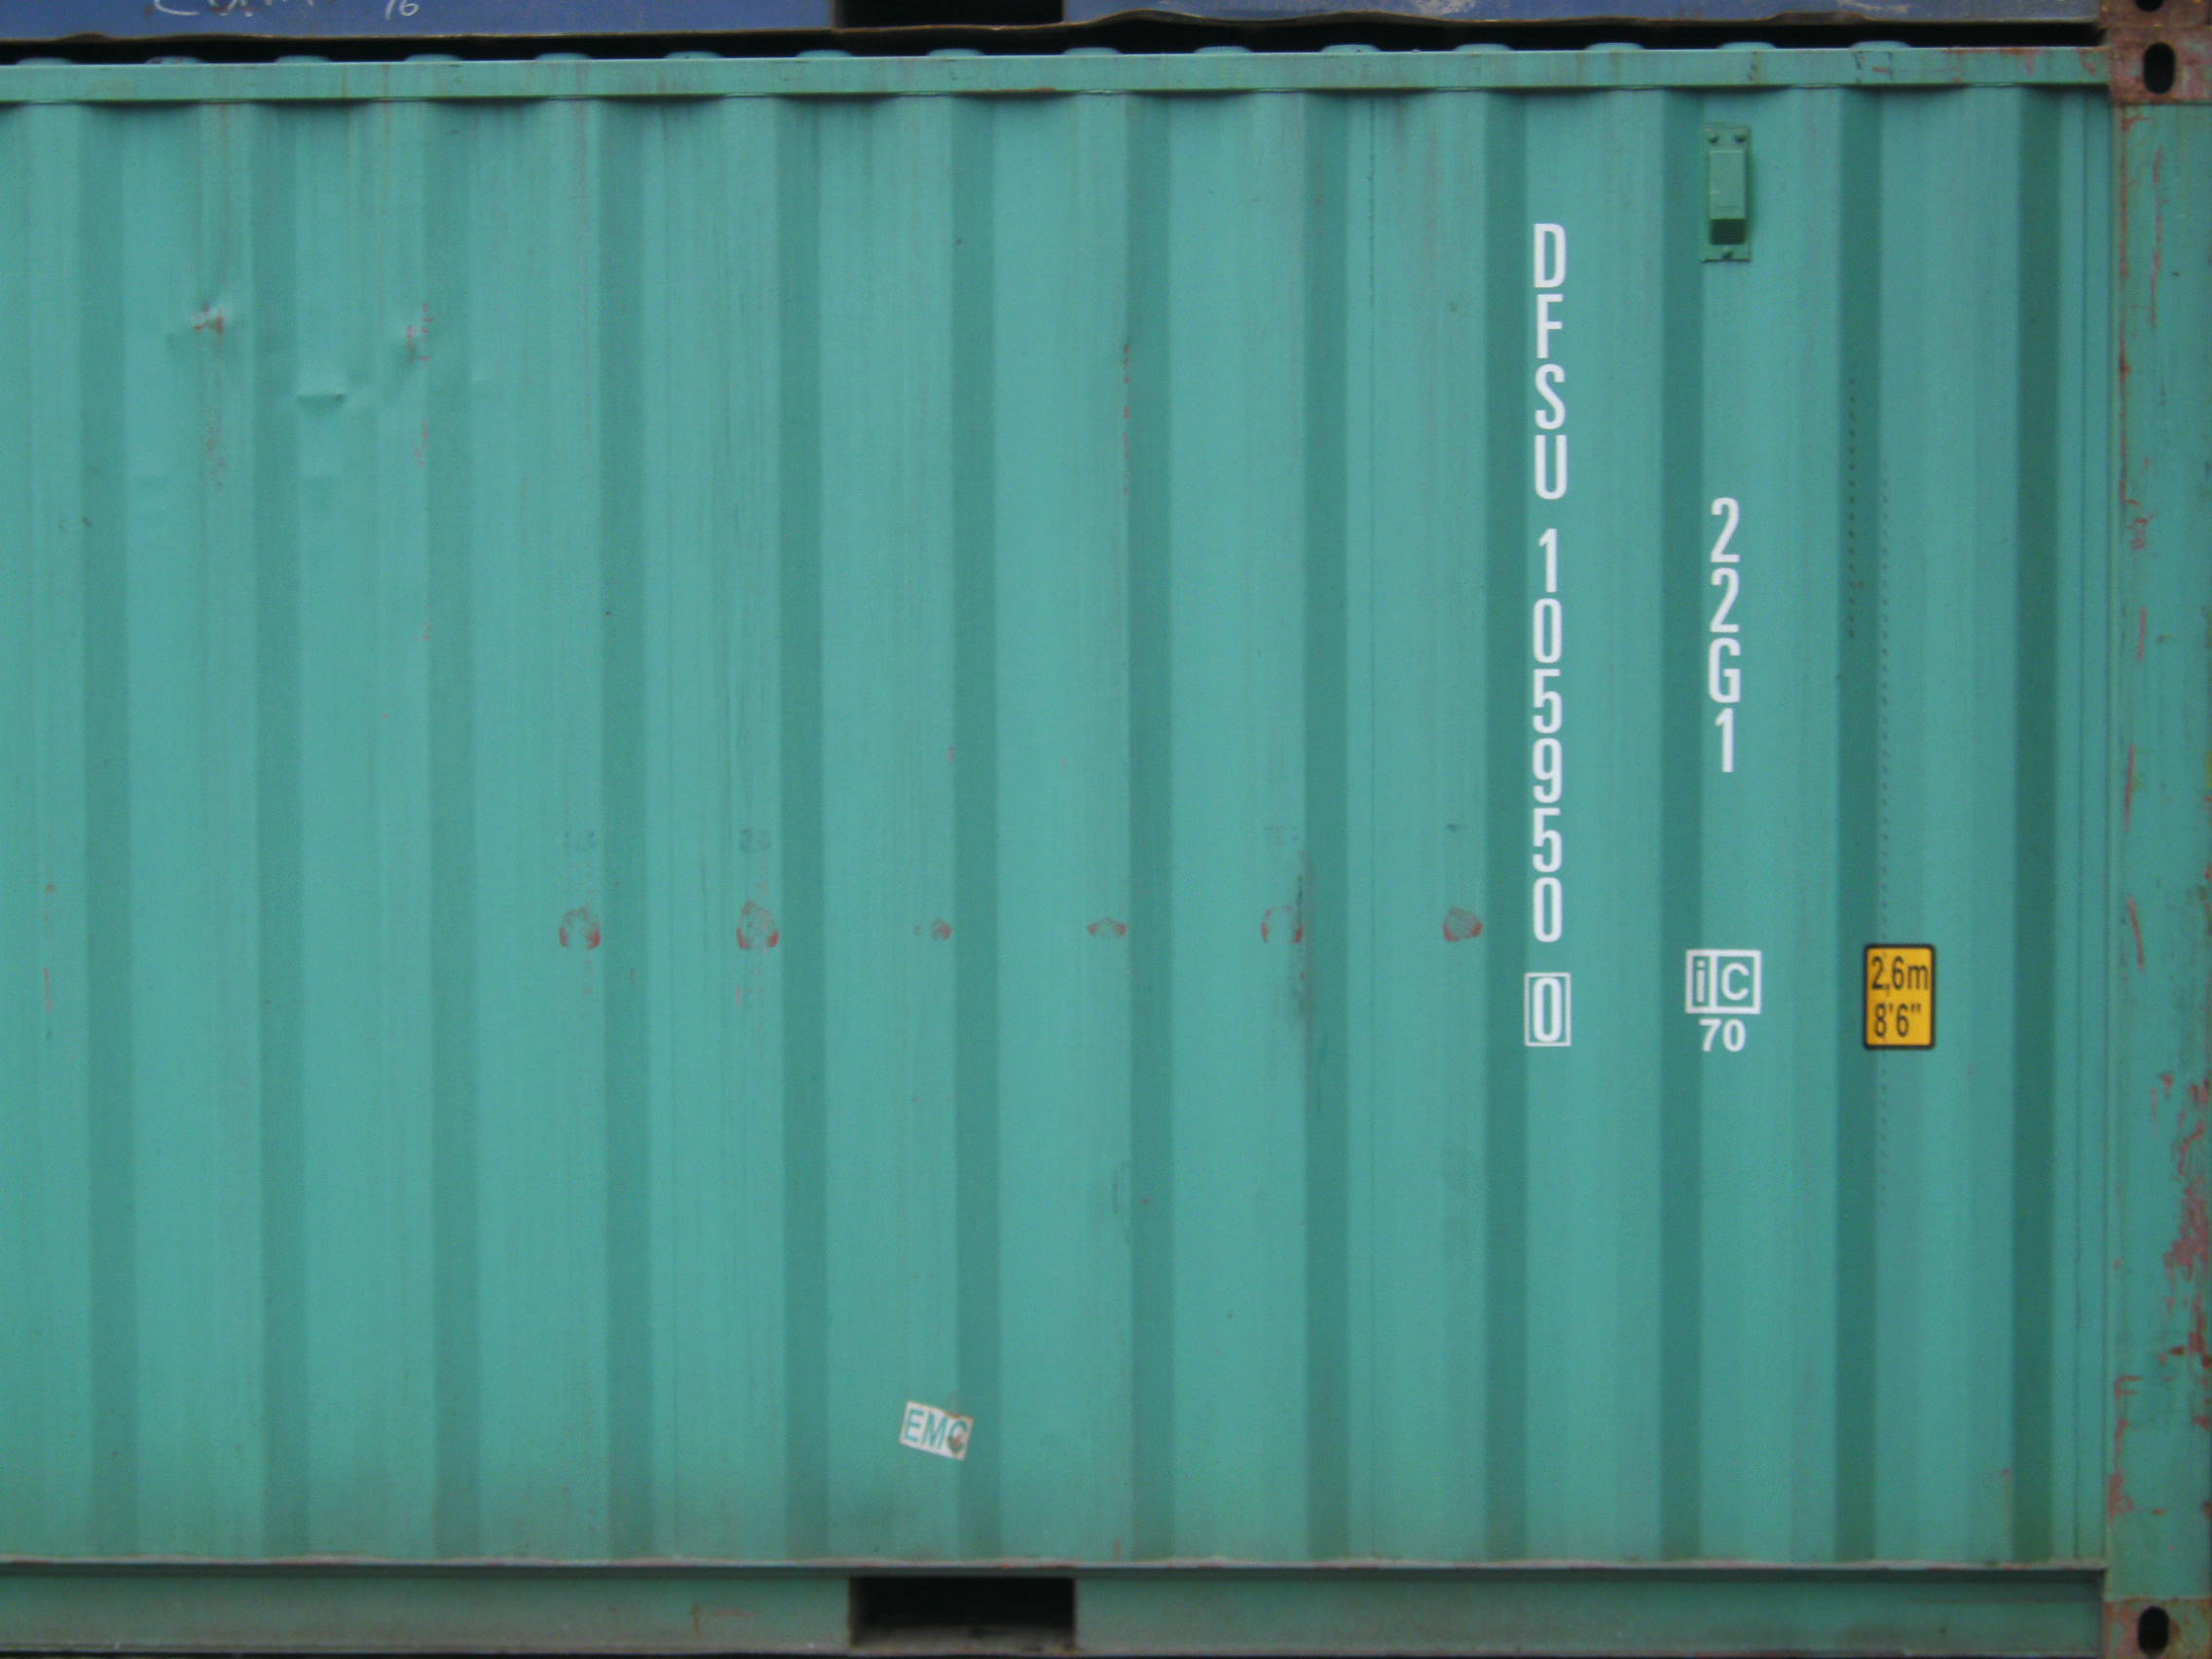container_no_door: (40, 58, 1825, 1645)
